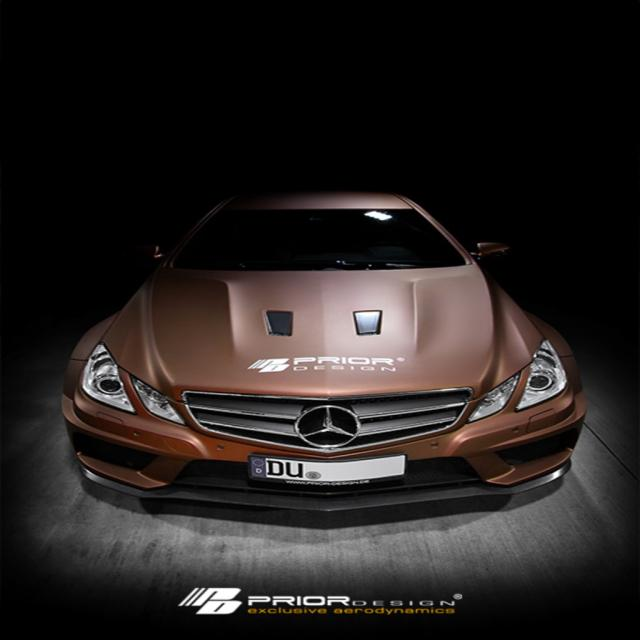car: (45, 189, 582, 502)
